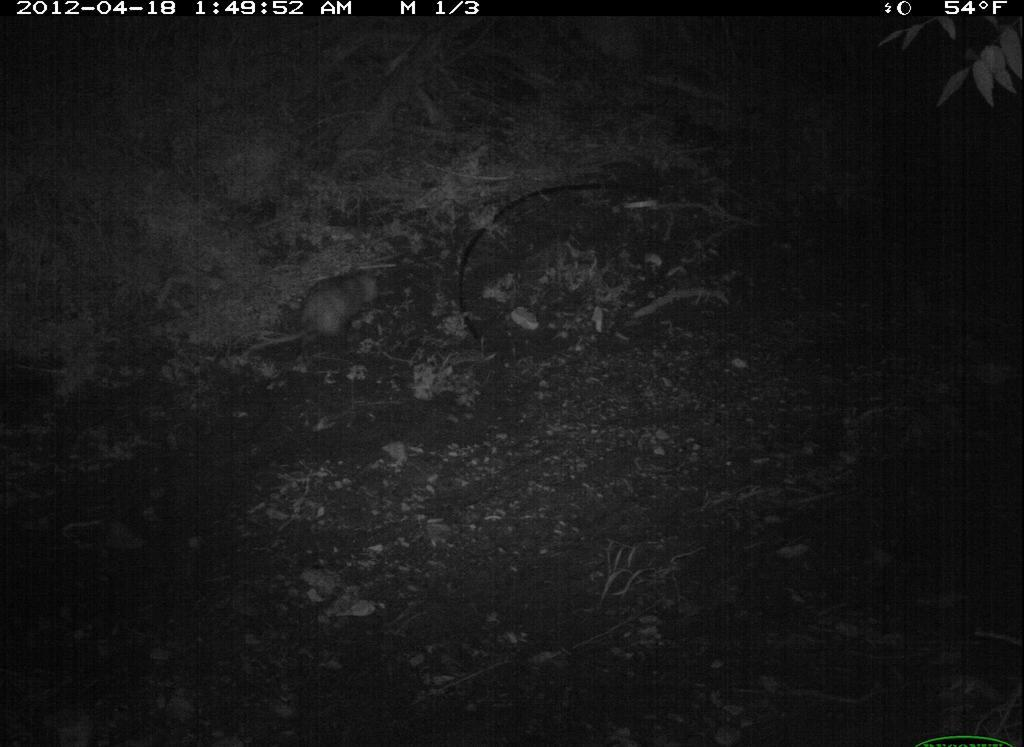opossum: (263, 258, 399, 354)
